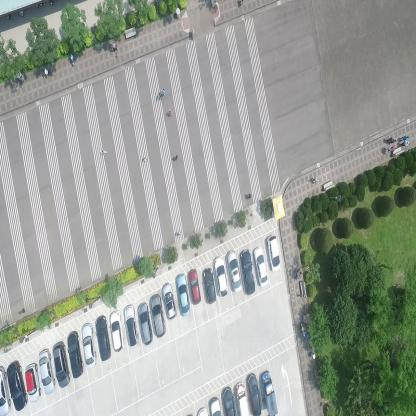car: (6, 360, 28, 412), (66, 329, 84, 379), (52, 340, 70, 389), (94, 314, 112, 362), (38, 348, 56, 395), (239, 247, 256, 296), (252, 245, 269, 289), (226, 250, 243, 294), (123, 304, 140, 348), (80, 322, 96, 368), (262, 370, 278, 416), (138, 301, 154, 346), (150, 294, 166, 338), (24, 363, 42, 402), (109, 310, 125, 353), (247, 372, 263, 415), (214, 254, 229, 298), (176, 272, 191, 316), (0, 364, 12, 415), (161, 281, 176, 321), (202, 266, 217, 304), (187, 267, 202, 305), (267, 234, 281, 272), (235, 381, 250, 415), (222, 386, 237, 416), (209, 394, 221, 416)
